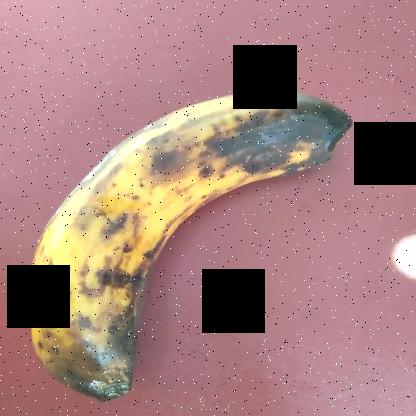rotten: (14, 73, 352, 415)
